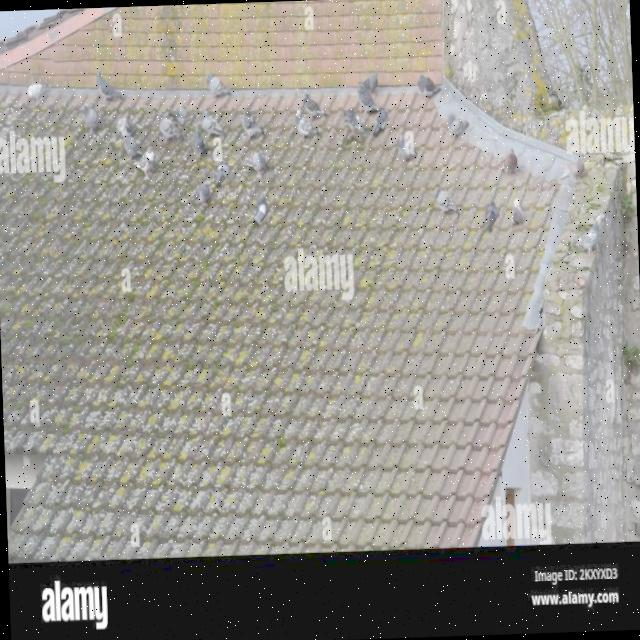bird: (572, 212, 606, 258), (432, 183, 461, 219), (356, 78, 382, 115), (95, 69, 124, 102), (293, 106, 319, 140), (119, 130, 141, 167), (136, 145, 158, 181), (341, 105, 365, 138), (240, 110, 264, 142), (397, 126, 417, 164), (416, 72, 443, 100), (302, 92, 326, 121), (356, 71, 379, 99), (370, 106, 390, 138), (158, 114, 180, 142), (190, 125, 208, 159), (208, 73, 232, 98), (482, 200, 500, 233), (174, 98, 192, 130), (82, 104, 100, 134), (213, 160, 231, 188), (250, 148, 268, 176), (196, 179, 213, 206), (210, 135, 223, 163), (143, 94, 155, 110)
